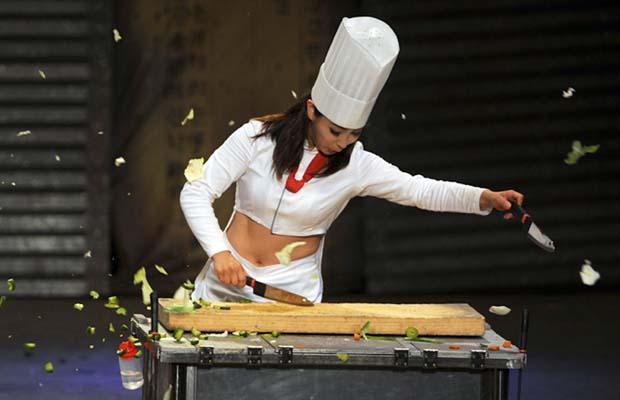person: (178, 15, 527, 308)
